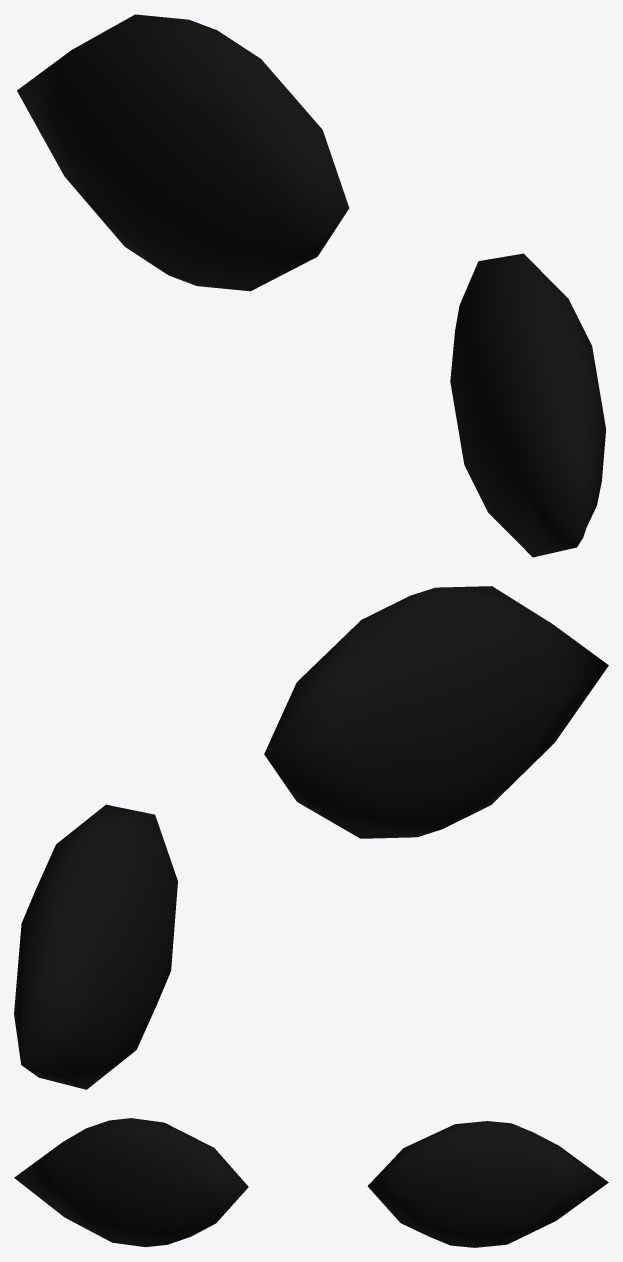
File: AM_Eyes_Oni.fbx
3 renders of one model, top to bottom at view 1: azimuth 30°, elevation 25°; view 2: azimuth 150°, elevation 25°; view 3: azimuth 270°, elevation 25°, orthographic. The views are drawn at different scales.
Parts seen in each view (by area): view 1: Eyes_Oni; view 2: Eyes_Oni; view 3: Eyes_Oni.
Boxes of the visible parts, x1,y1,x2,y2 form: Eyes_Oni: (17,14,605,557); Eyes_Oni: (14,586,608,1089); Eyes_Oni: (14,1118,608,1247).
Bounding box in the file's own units: 8.44 × 13.65 × 57.49.
